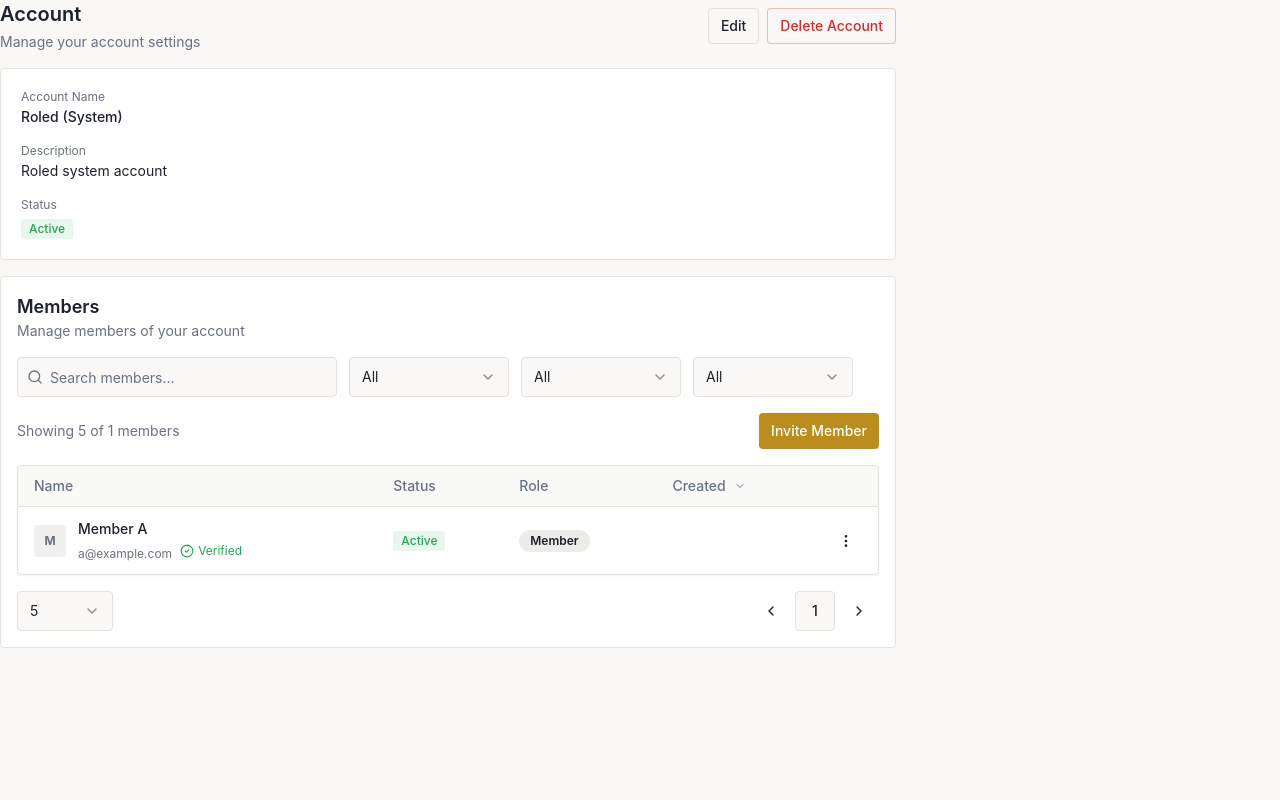
Test: Account Page › invites a member and refreshes the list
Expected: the text "Member A" is shown, x1=78 y1=520 x2=147 y2=537
// Open invite dialog
Step 1. Click the button "Invite Member" → click(819, 431), box x1=759 y1=413 x2=879 y2=449
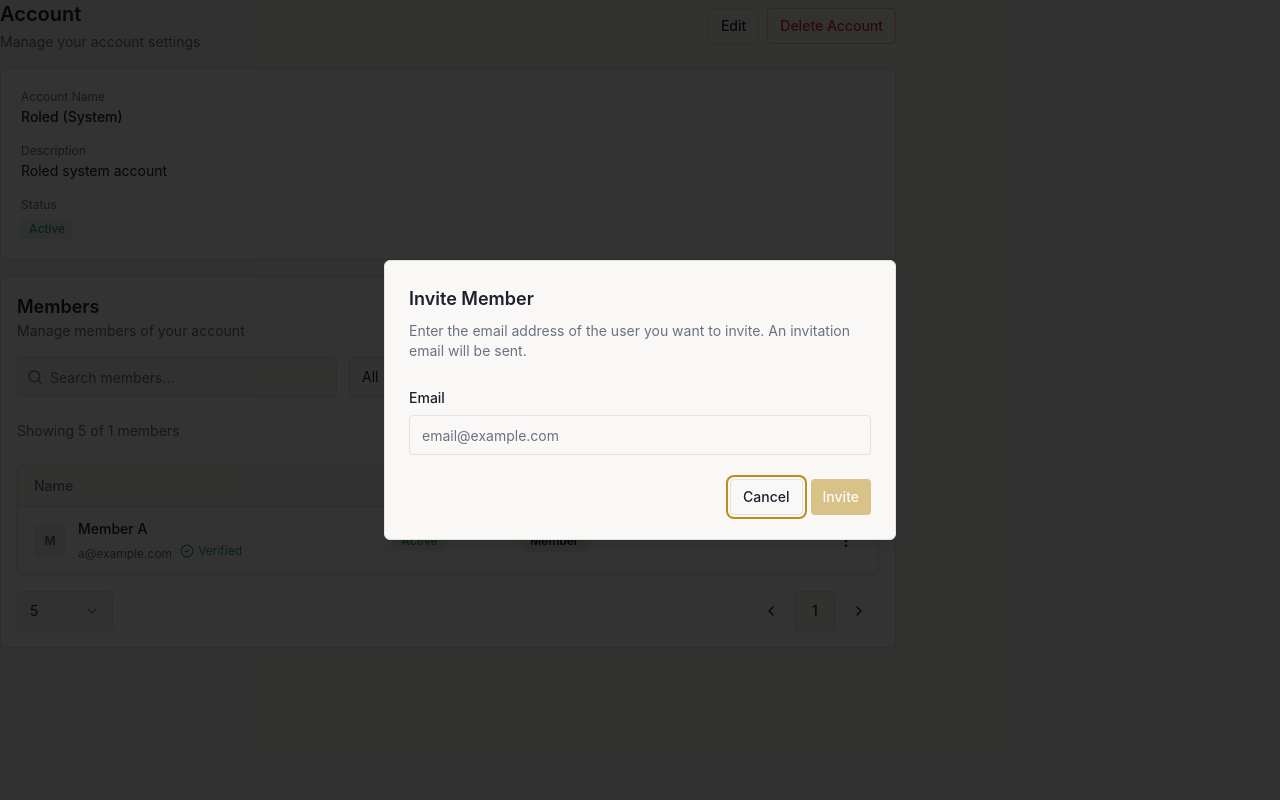
Step 2. Type "new@example.com" into the field labelled "Email" → (640, 435), box x1=409 y1=415 x2=871 y2=455
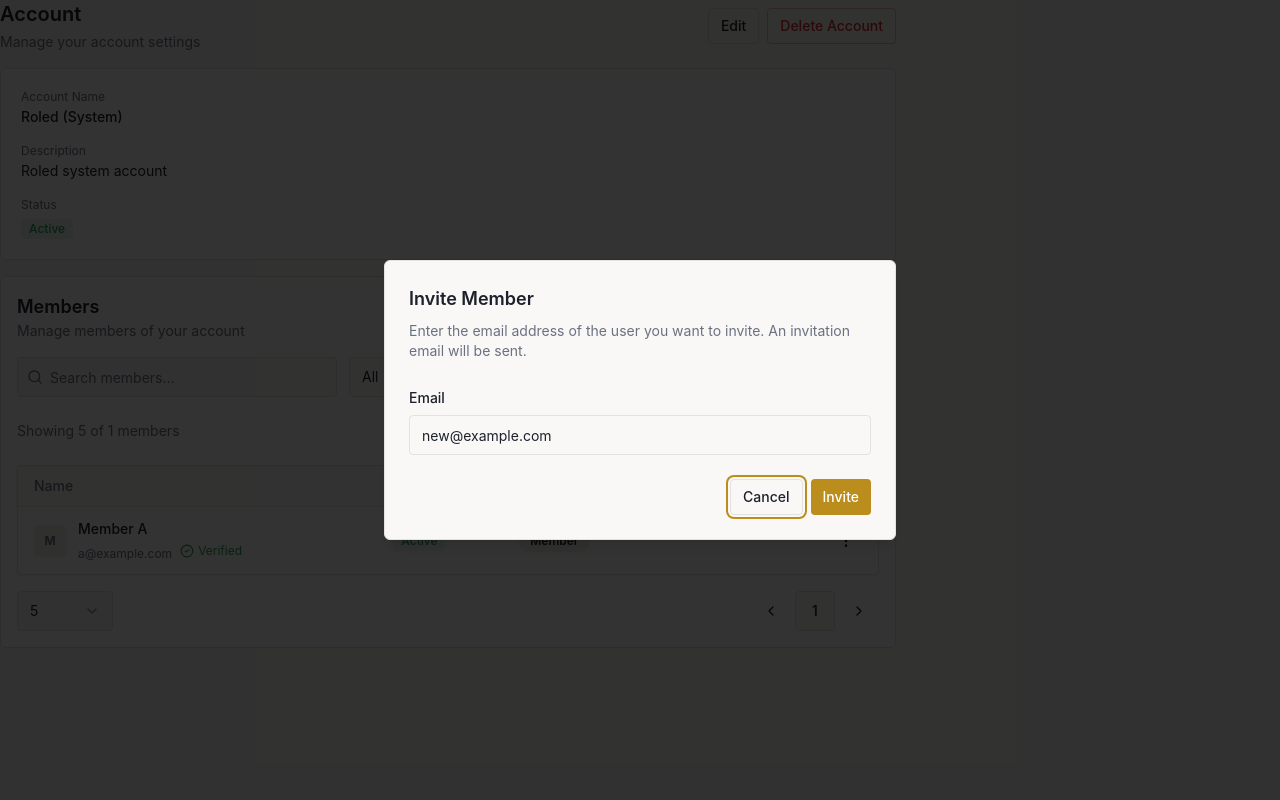
// Click Invite
Step 3. Click the button "Invite" → click(841, 497), box x1=810 y1=479 x2=871 y2=515
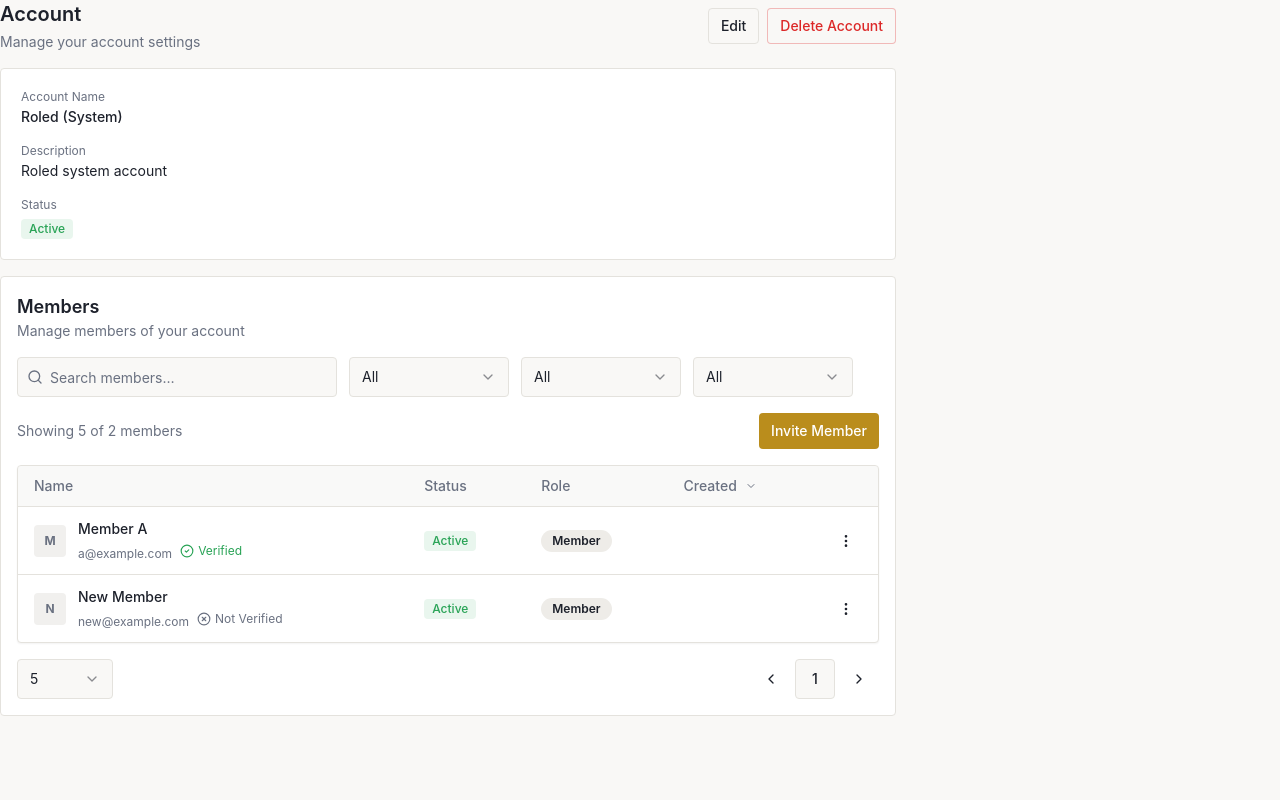
Expected: the text "New Member" is shown, x1=78 y1=588 x2=168 y2=605
